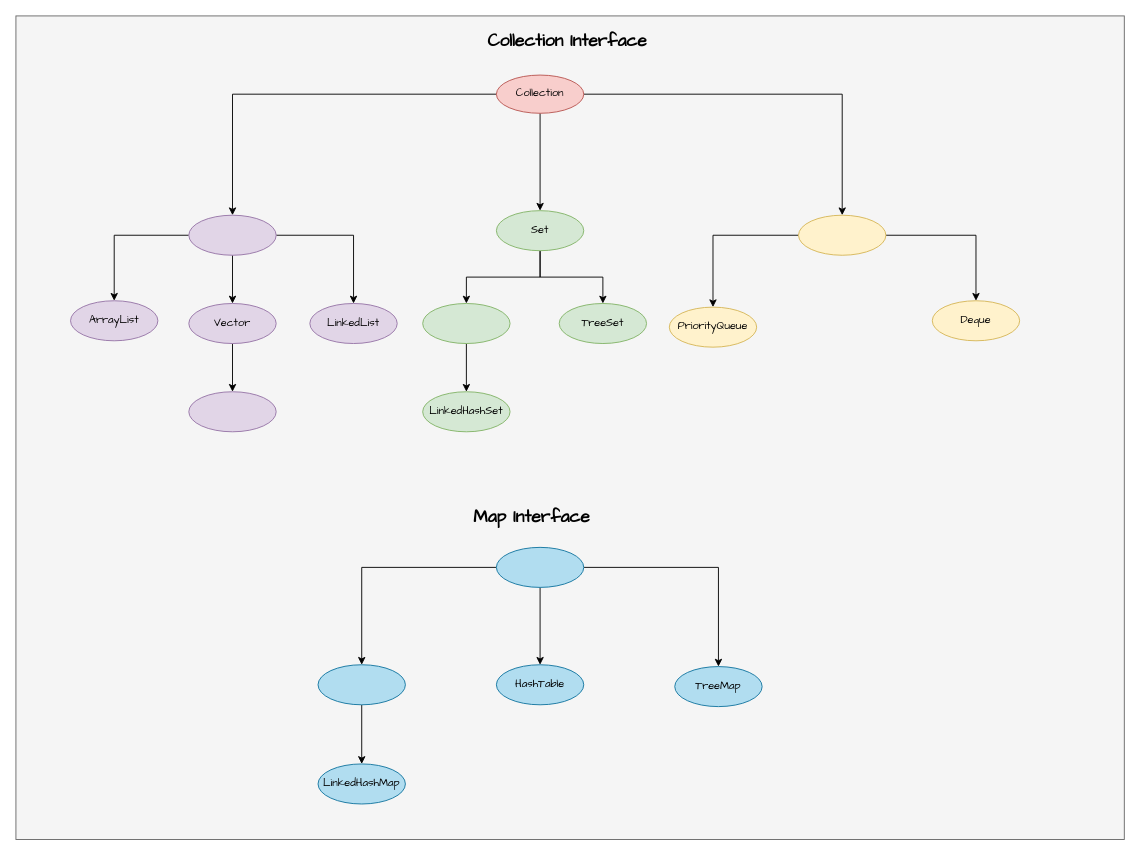
Image size: 1140x855. Some labels were removed from this diagram. Here are the shapes that lost their labels. From the top down, the centre of each, then its label:
point (232, 234): List
point (842, 234): Queue
point (466, 323): HashSet
point (232, 411): Stack
point (539, 566): Map
point (361, 684): HashMap
